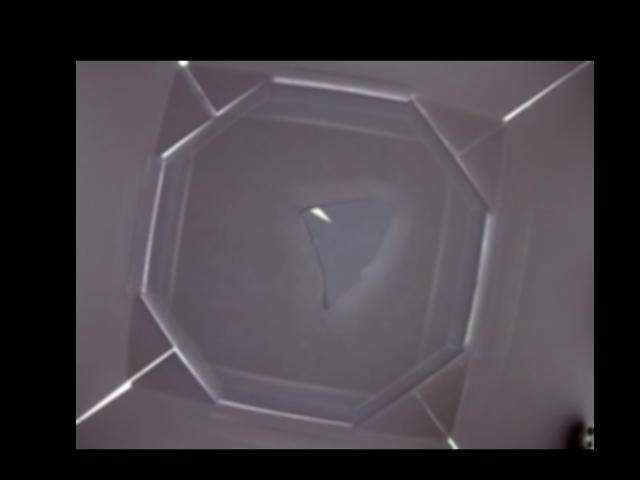China: (301, 196, 398, 307)
